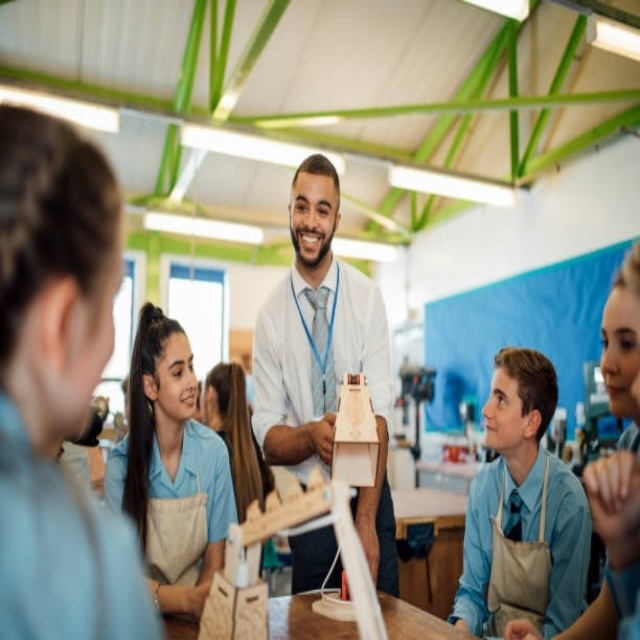Sin_gafas: (598, 315, 638, 353), (293, 190, 332, 223), (162, 348, 196, 381), (489, 381, 518, 409)
Sin_guantes: (582, 445, 639, 564), (310, 410, 340, 466)
Sin_mascara: (602, 370, 628, 413), (482, 413, 507, 449), (296, 224, 323, 256), (172, 387, 201, 416)
